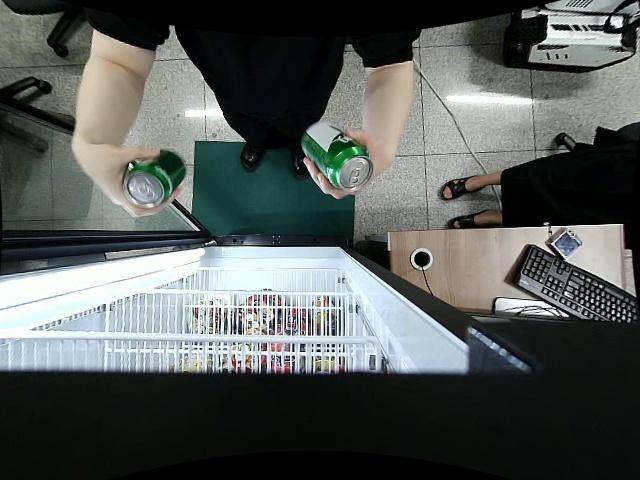00_hand: (82, 142, 182, 219), (303, 128, 389, 201)
12_chilsungCider: (303, 121, 373, 192), (125, 151, 183, 208)
